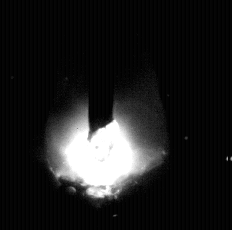arame: (89, 0, 114, 140)
poca: (46, 0, 168, 230)
